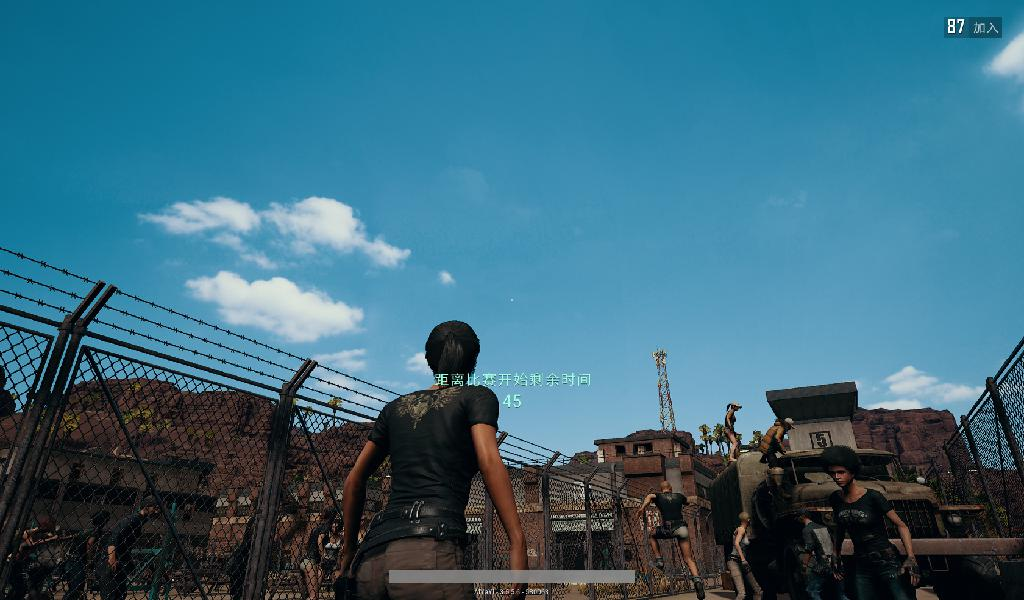Target Person: (333, 320, 533, 600), (817, 444, 921, 600), (634, 481, 712, 599), (98, 491, 163, 600), (302, 505, 340, 600), (725, 511, 762, 600), (758, 416, 796, 481), (721, 397, 744, 468)
